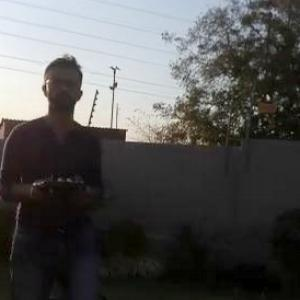follow: (0, 50, 110, 299)
